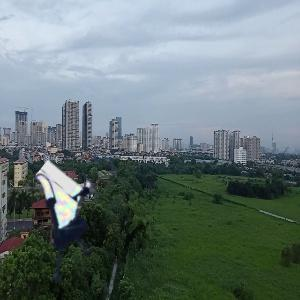drone: (5, 177, 124, 296)
